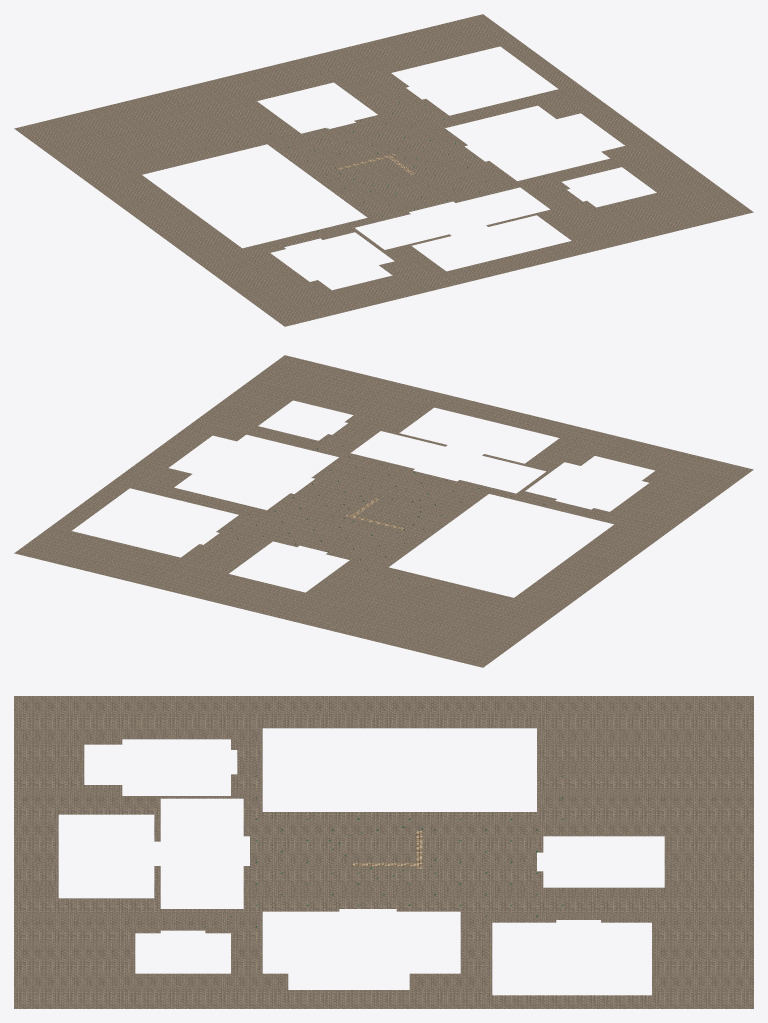
The model's file is vn_town_ground.glb.
3 views of the same model, one above another, from view 1: azimuth 30°, elevation 25°; view 2: azimuth 150°, elevation 25°; view 3: azimuth 270°, elevation 25° (orthographic). The views are drawn at different scales.
Visible parts, largest first — view 1: TownFloor; view 2: TownFloor; view 3: TownFloor.
Part boxes in pixels (box(x1,y1,x2,y2)): TownFloor: box(14, 14, 753, 326); TownFloor: box(14, 355, 753, 667); TownFloor: box(14, 696, 753, 1008).
Bounding box in the file's own units: 232 × 1.09 × 232.
3 materials, 3 textured.
